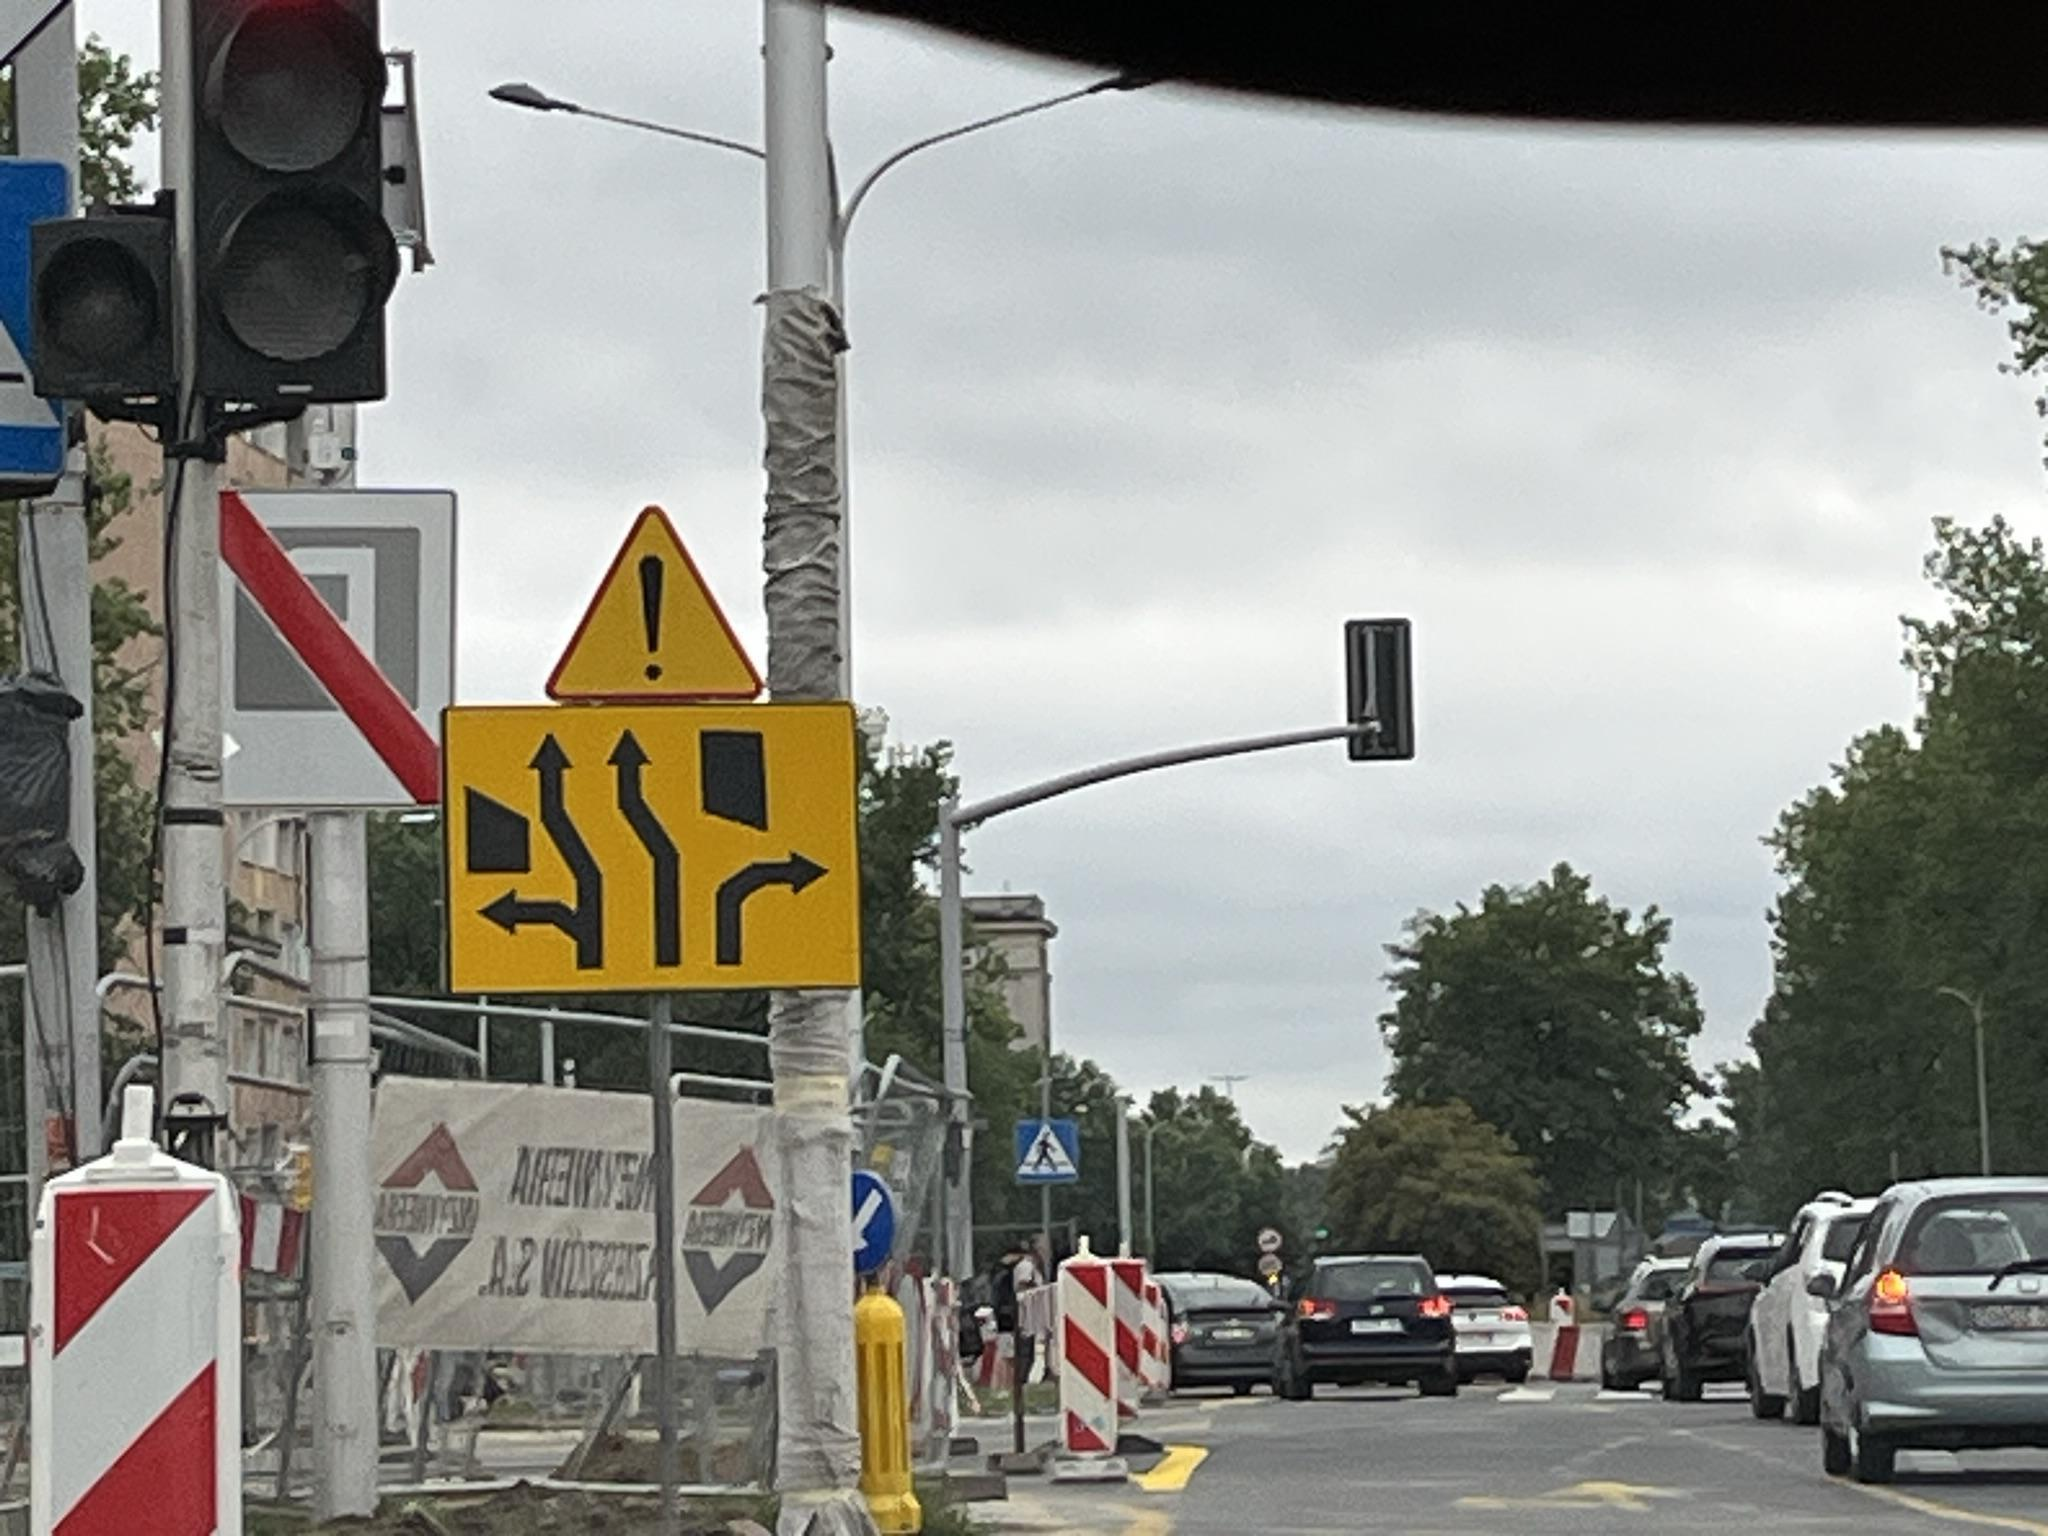information: (216, 486, 455, 810), (0, 157, 68, 478), (1009, 1117, 1082, 1187)
mandatory: (850, 1170, 897, 1283)
other: (435, 700, 866, 1000)
prohibitory: (1256, 1229, 1282, 1254), (1259, 1255, 1282, 1278)
warning: (542, 500, 764, 703)
